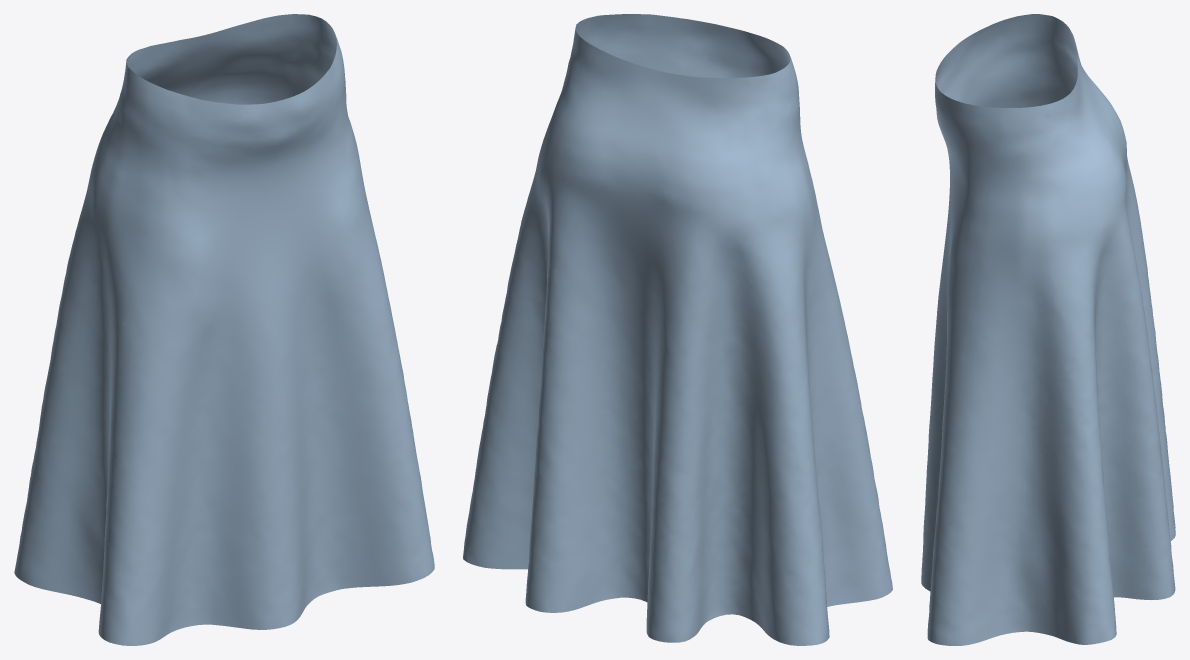
File: skirt_L.glb
3 renders of one model, left to right at view 1: azimuth 30°, elevation 25°; view 2: azimuth 150°, elevation 25°; view 3: azimuth 270°, elevation 25°, orthographic. The views are drawn at different scales.
Parts seen in each view (by area): view 1: geometry_0; view 2: geometry_0; view 3: geometry_0.
Boxes of the visible parts, bbox=[...] form: geometry_0: bbox=[14, 14, 434, 645]; geometry_0: bbox=[463, 14, 892, 645]; geometry_0: bbox=[921, 14, 1175, 645].
Size of the model in its own units: 0.5835 by 0.8496 by 0.3742.
